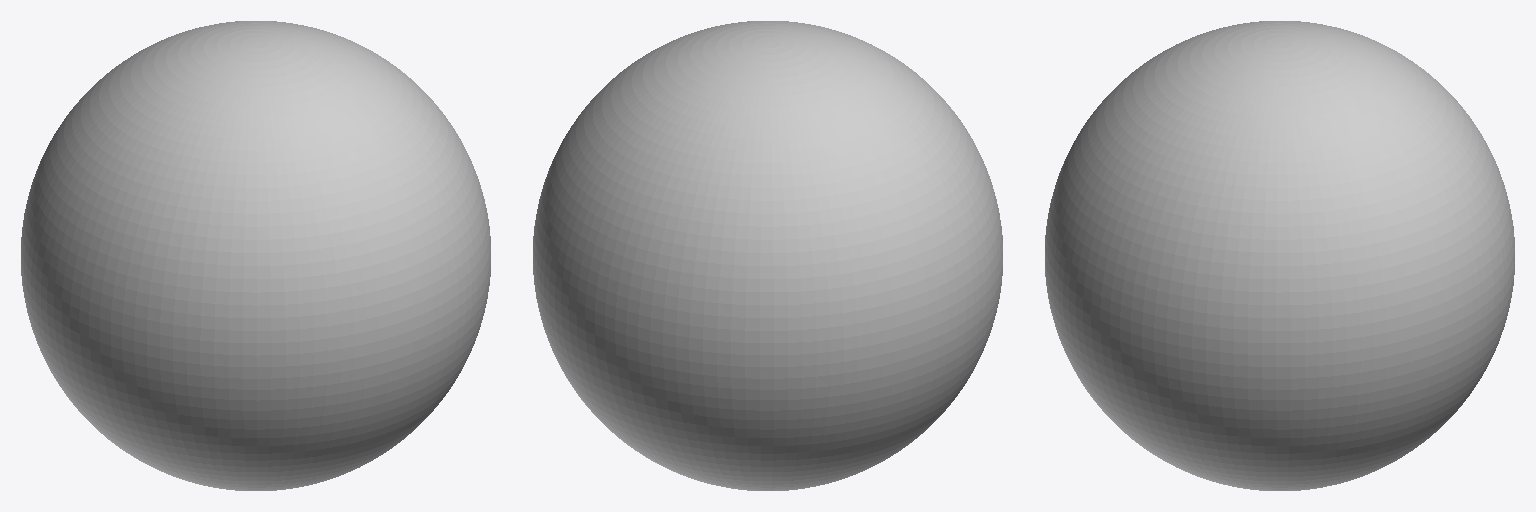
Rendered from Mercur.obj.
3 renders of one model, left to right at view 1: azimuth 30°, elevation 25°; view 2: azimuth 150°, elevation 25°; view 3: azimuth 270°, elevation 25°, orthographic.
Parts seen in each view (by area): view 1: Sphere; view 2: Sphere; view 3: Sphere.
Part boxes in pixels (x1,y1,x2,y2): Sphere: (21, 21, 490, 490); Sphere: (533, 21, 1002, 490); Sphere: (1045, 21, 1514, 490).
Size of the model in its own units: 0.06 by 0.06 by 0.06.